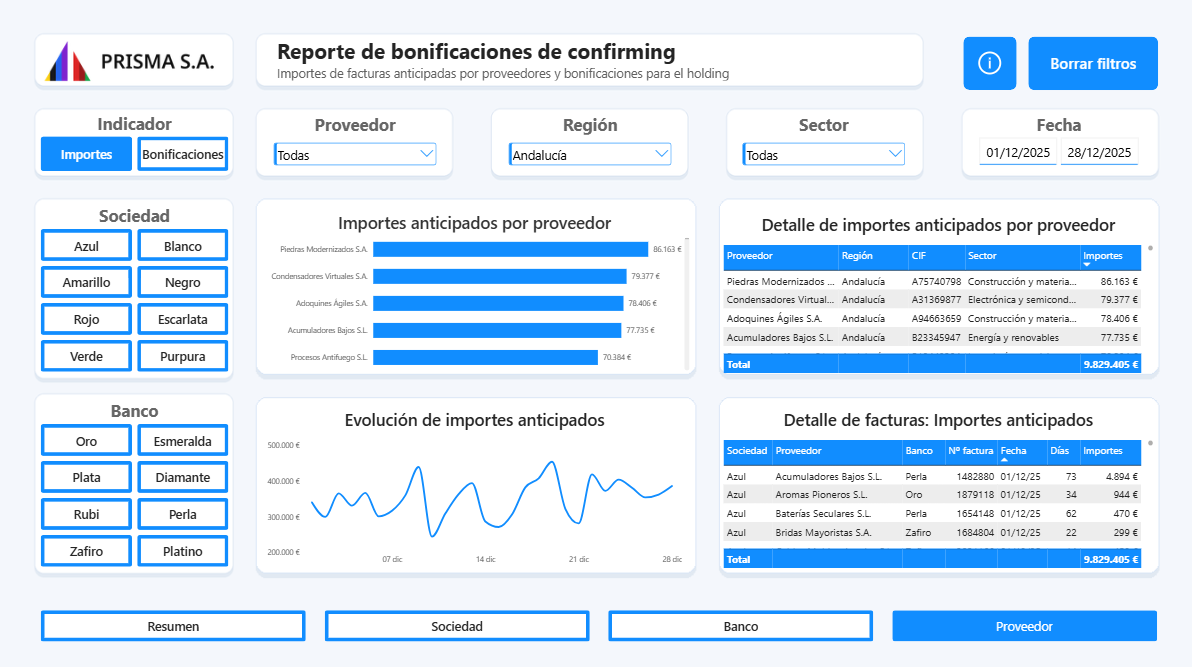

This screenshot's page, from the dashboard's own definition file:
{"tool":"powerbi","page":{"name":"Proveedor","canvas":[1920,1080],"ordinal":3},"visuals":[{"type":"barChart","fields":{"Category":["proveedores.Nombre_Proveedor_Grafico"],"Y":["Registro_Bonificaciones.Sel_Importes"]},"box":[412,324,704,270],"z":0},{"type":"tableEx","fields":{"Values":["proveedores.Nombre_Proveedor","CCAA_Proveedor.Comunidad Autónoma","proveedores.CIF_Proveedor","proveedores.Sector","Registro_Bonificaciones.Sel_Importes"]},"box":[1154,327,704,270],"z":1000},{"type":"lineChart","fields":{"Category":["registro_bonificaciones.F. Anticipo"],"Y":["Registro_Bonificaciones.Sel_Importes"]},"box":[412,640,704,270],"z":2000},{"type":"tableEx","fields":{"Values":["Sociedad.Nombre_Corto_Sociedad","proveedores.Nombre_Proveedor","Banco.Nombre_Corto_Banco","Count(registro_bonificaciones.Nº Factura)","registro_bonificaciones.F. Anticipo","Sum(registro_bonificaciones.Días)","Registro_Bonificaciones.Sel_Importes"]},"box":[1154,640,704,270],"z":3000},{"type":"image","box":[60.5,60,320,80],"z":4000},{"type":"advancedSlicerVisual","title":"Sociedad","fields":{"Values":["Sociedad.Nombre_Corto_Sociedad"]},"box":[70.5,328,300,270],"z":5000},{"type":"pageNavigator","box":[70,978,1786,50],"z":6000},{"type":"advancedSlicerVisual","title":"Banco","fields":{"Values":["Banco.Nombre_Corto_Banco"]},"box":[70.5,640,300,270],"z":7000},{"type":"shape","title":"Reporte de bonificaciones de confirming","box":[448,60,1030,80],"z":8000},{"type":"advancedSlicerVisual","title":"Indicador","fields":{"Values":["Selector.Selector"]},"box":[70.5,180,300,96],"z":9000},{"type":"slicer","title":"Proveedor","fields":{"Values":["proveedores.Nombre_Proveedor"]},"box":[438,182,270,100],"z":10000},{"type":"slicer","title":"Región","fields":{"Values":["CCAA_Proveedor.Comunidad Autónoma"]},"box":[814,182,270,100],"z":11000},{"type":"slicer","title":"Fecha","fields":{"Values":["registro_bonificaciones.F. Anticipo"]},"box":[1564,182,270,100],"z":12000},{"type":"slicer","title":"Sector","fields":{"Values":["Proveedor.Sector"]},"box":[1188,182,270,100],"z":13000},{"type":"shape","box":[1572.1,250.7,123.6,29.3],"z":14000},{"type":"shape","box":[1702.1,250.7,123.6,29.3],"z":15000},{"type":"actionButton","box":[1650,60,208,86],"z":16000},{"type":"actionButton","box":[1545.6,60,85.6,85.6],"z":17000}]}

Visuals, with their boxes in screenshot pixels (x1, y1, x2, y2), scaled from the page's 1920x1080 canvas onto the 1192x667 screenshot:
barChart - proveedores.Nombre_Proveedor_Grafico x Registro_Bonificaciones.Sel_Importes: [x1=256, y1=200, x2=693, y2=367]
tableEx - proveedores.Nombre_Proveedor x CCAA_Proveedor.Comunidad Autónoma: [x1=716, y1=202, x2=1154, y2=369]
lineChart - registro_bonificaciones.F. Anticipo x Registro_Bonificaciones.Sel_Importes: [x1=256, y1=395, x2=693, y2=562]
tableEx - Sociedad.Nombre_Corto_Sociedad x proveedores.Nombre_Proveedor: [x1=716, y1=395, x2=1154, y2=562]
image: [x1=38, y1=37, x2=236, y2=86]
"Sociedad" advancedSlicerVisual: [x1=44, y1=203, x2=230, y2=369]
pageNavigator: [x1=43, y1=604, x2=1152, y2=635]
"Banco" advancedSlicerVisual: [x1=44, y1=395, x2=230, y2=562]
"Reporte de bonificaciones de confirming" shape: [x1=278, y1=37, x2=918, y2=86]
"Indicador" advancedSlicerVisual: [x1=44, y1=111, x2=230, y2=170]
"Proveedor" slicer: [x1=272, y1=112, x2=440, y2=174]
"Región" slicer: [x1=505, y1=112, x2=673, y2=174]
"Fecha" slicer: [x1=971, y1=112, x2=1139, y2=174]
"Sector" slicer: [x1=738, y1=112, x2=905, y2=174]
shape: [x1=976, y1=155, x2=1053, y2=173]
shape: [x1=1057, y1=155, x2=1133, y2=173]
actionButton: [x1=1024, y1=37, x2=1154, y2=90]
actionButton: [x1=960, y1=37, x2=1013, y2=90]
